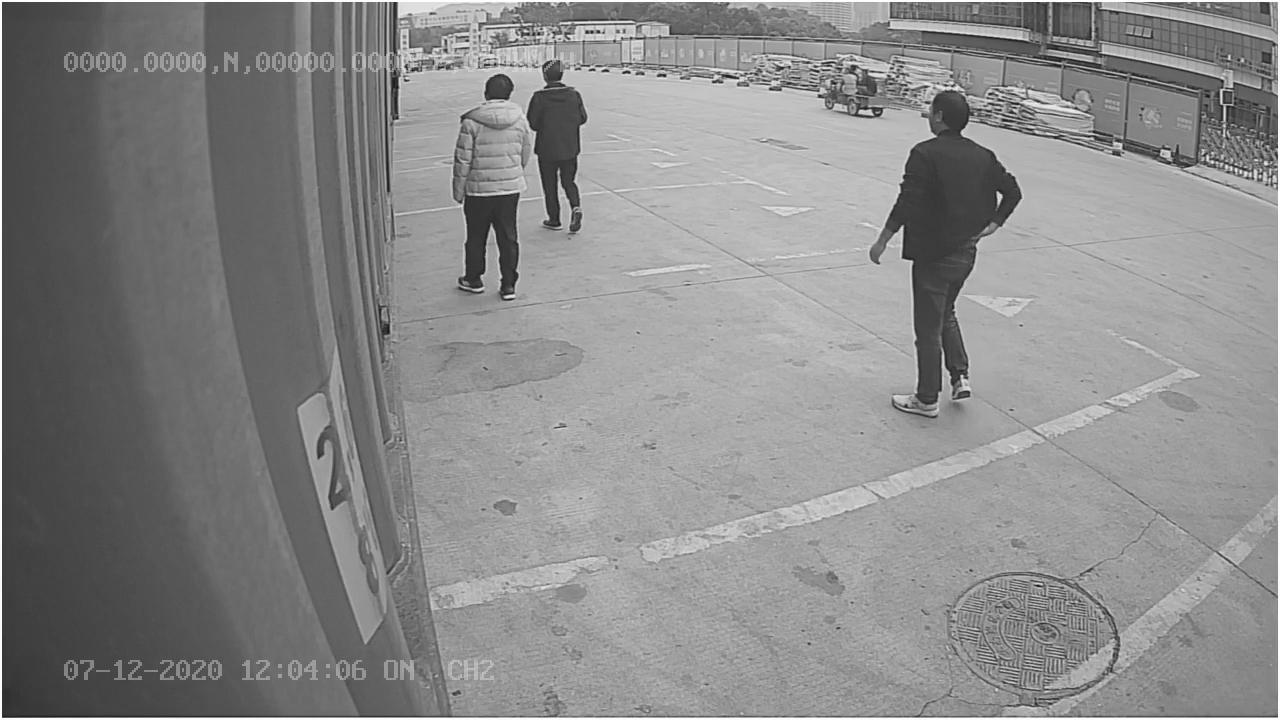person: (869, 88, 1023, 424), (445, 73, 533, 300)
